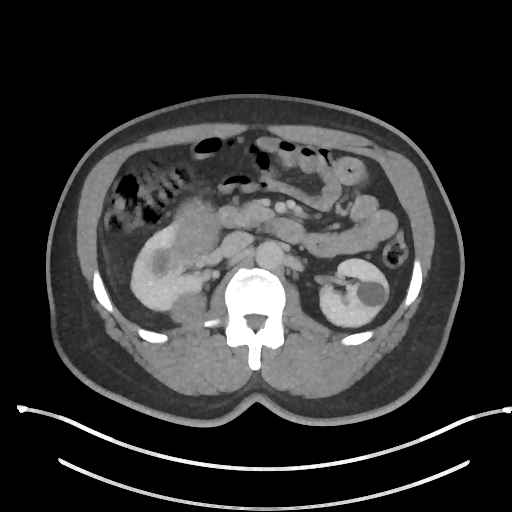Lesion: (356, 277, 388, 311)
